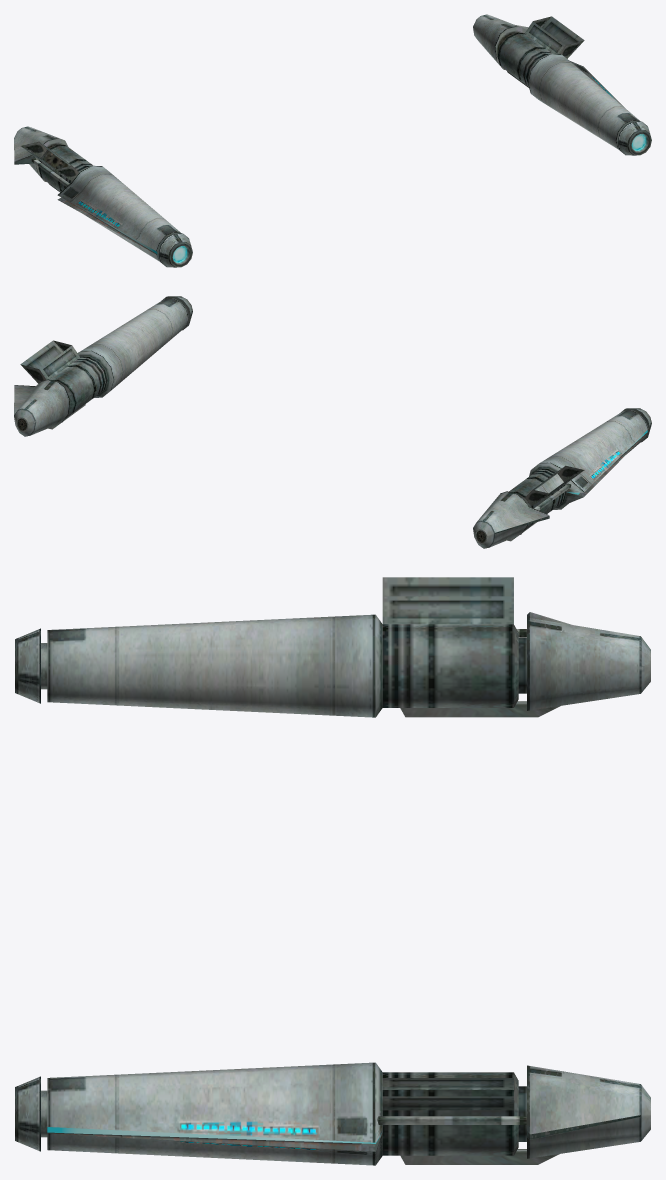
Rendered from black_sun_fighter_medium_weapon1_s02_l0.fbx.
3 renders of one model, top to bottom at view 1: azimuth 30°, elevation 25°; view 2: azimuth 150°, elevation 25°; view 3: azimuth 270°, elevation 25°, orthographic. The views are drawn at different scales.
Visible parts, largest first — view 1: mesh_node; view 2: mesh_node; view 3: mesh_node.
Part boxes in pixels (x1,y1,x2,y2): mesh_node: (14,14,651,267); mesh_node: (14,296,651,548); mesh_node: (15,577,650,1165).
Size of the model in its own units: 13.93 by 1.28 by 7.17.
Materials: 1 (1 with a texture image).
